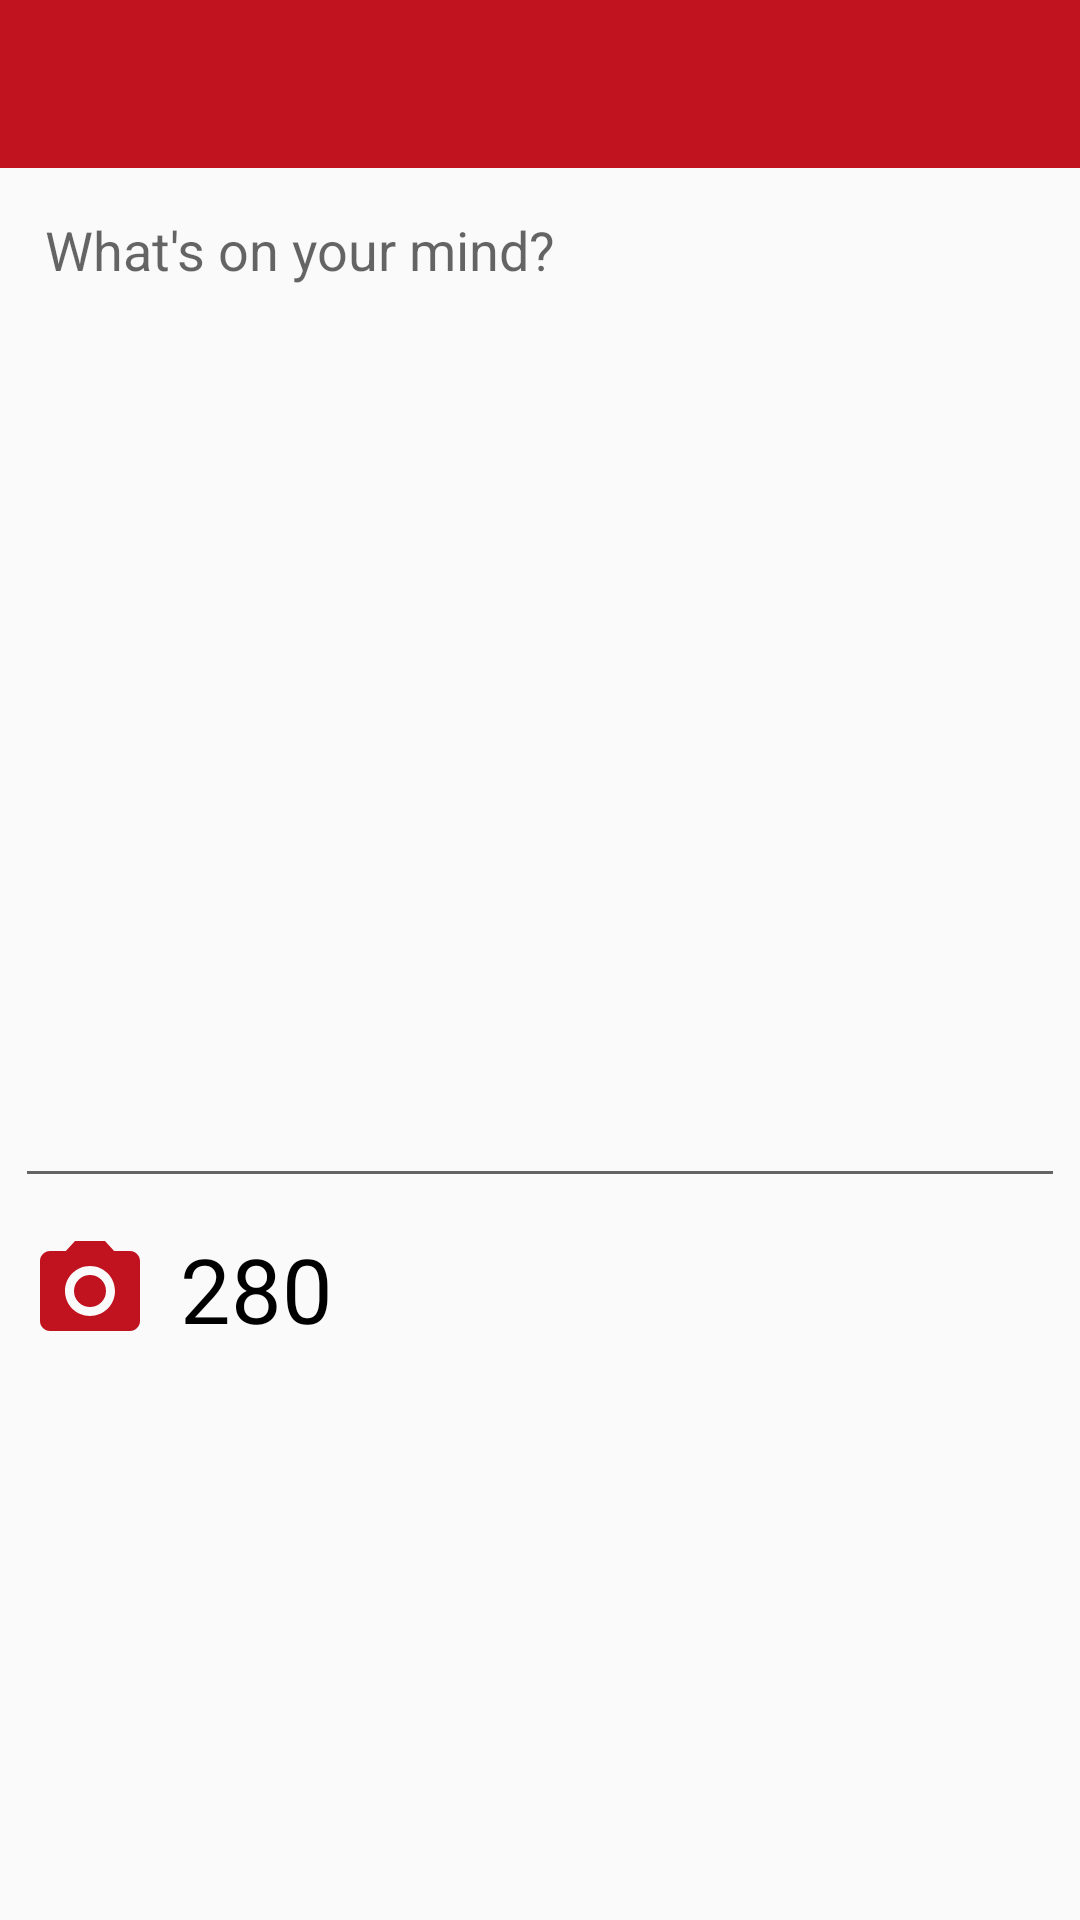

Screen size 1080px×1920px. Icon name, then its box in pixels as (x1, y1, x2, y2):
photo camera: (40, 1241, 140, 1331)
